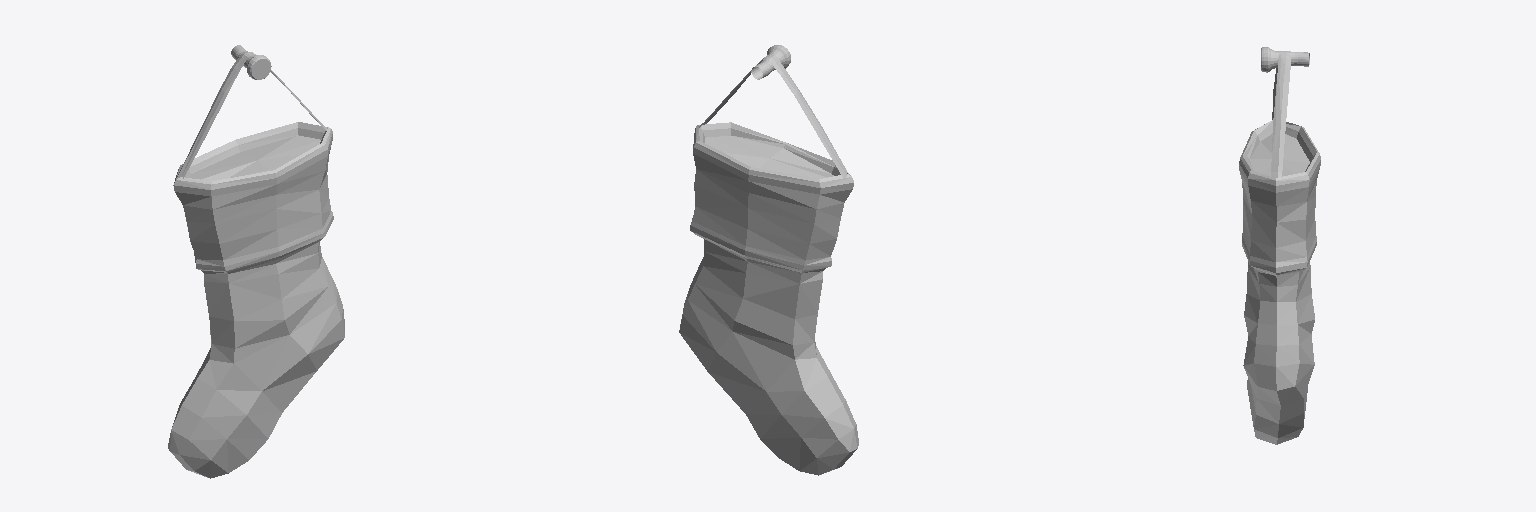
Rendered from bota12.obj.
3 views of the same model, side by side, from view 1: azimuth 30°, elevation 25°; view 2: azimuth 150°, elevation 25°; view 3: azimuth 270°, elevation 25° (orthographic).
Visible parts, largest first — view 1: peluche_Noel_Sock_2020.009; view 2: peluche_Noel_Sock_2020.009; view 3: peluche_Noel_Sock_2020.009.
Part boxes in pixels (x1,y1,x2,y2): peluche_Noel_Sock_2020.009: (168,45,344,478); peluche_Noel_Sock_2020.009: (679,45,858,475); peluche_Noel_Sock_2020.009: (1239,47,1320,444).
Bounding box in the file's own units: 0.1238 × 0.2785 × 0.0502.